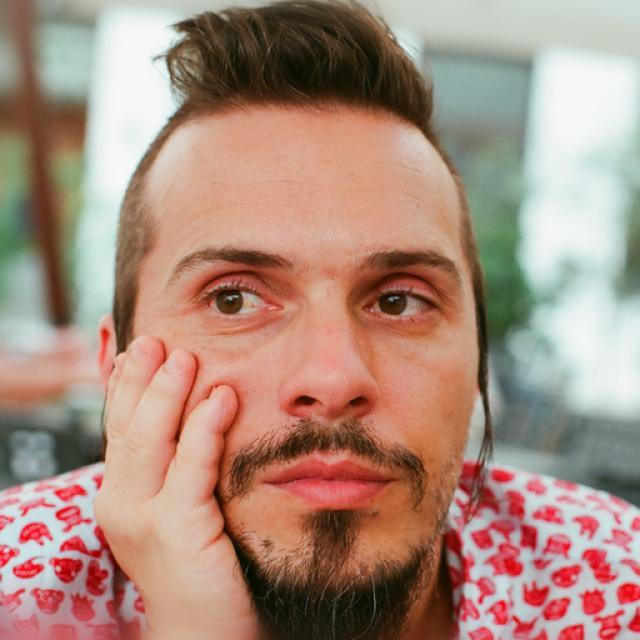neutral: (128, 102, 476, 618)
